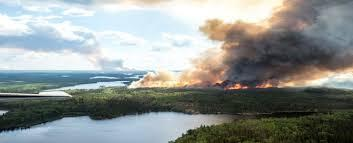yanwu: (127, 0, 353, 90)
